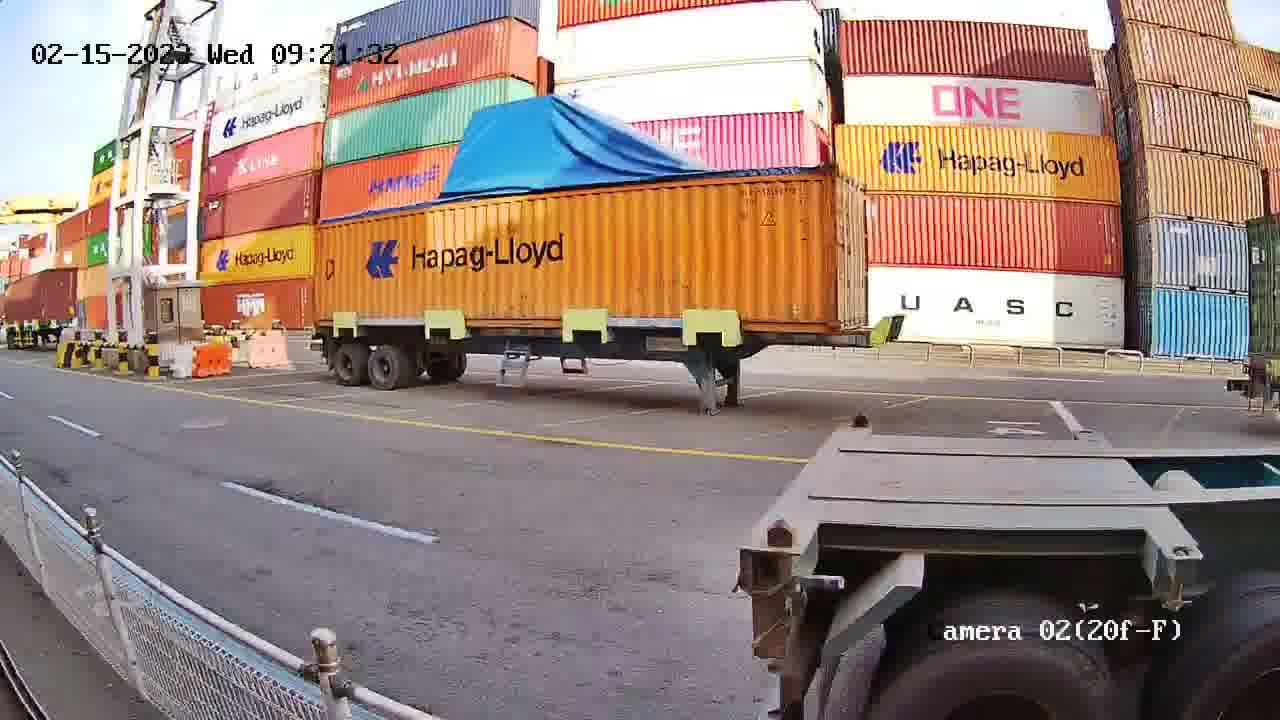Chassis: (738, 425, 875, 592)
Cone: (744, 518, 797, 585), (844, 411, 872, 434)
Tire: (871, 630, 1114, 716), (1145, 593, 1274, 719)
